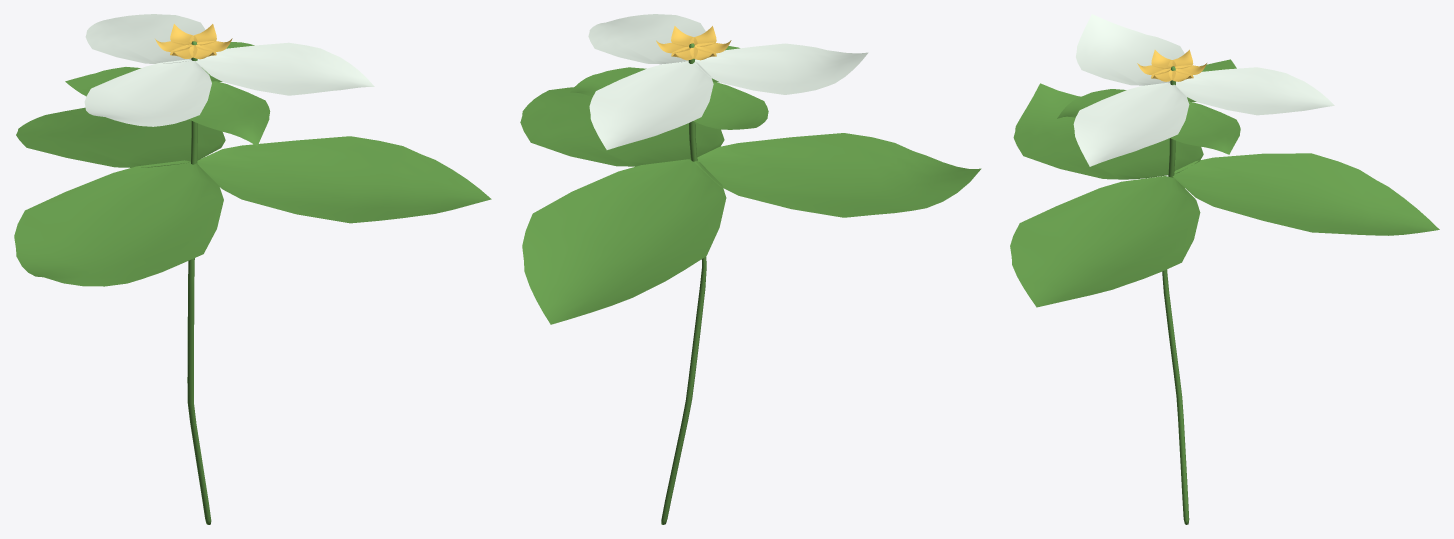
Rendered from trillium_variant2.fbx.
3 renders of one model, left to right at view 1: azimuth 30°, elevation 25°; view 2: azimuth 150°, elevation 25°; view 3: azimuth 270°, elevation 25°, orthographic. The views are drawn at different scales.
Parts seen in each view (by area): view 1: Plane.009, Plane.010, Plane.001, Plane.013, Plane.012, Plane.011, Plane.020, Stem, Plane.022; view 2: Plane.001, Plane.009, Plane.011, Plane.010, Plane.012, Plane.013, Plane.022, Stem, Plane.021; view 3: Plane.010, Plane.001, Plane.009, Plane.013, Plane.011, Plane.012, Plane.021, Stem, Plane.020.
Boxes of the visible parts, box(x1,y1,x2,y2) form: Plane.009: box(14, 160, 223, 286); Plane.010: box(197, 136, 491, 223); Plane.001: box(16, 107, 225, 167); Plane.013: box(195, 42, 374, 95); Plane.012: box(84, 59, 211, 126); Plane.011: box(85, 14, 205, 63); Plane.020: box(189, 80, 270, 146); Stem: box(187, 41, 211, 524); Plane.022: box(65, 67, 140, 96); Plane.001: box(522, 159, 726, 324); Plane.009: box(694, 133, 981, 217); Plane.011: box(589, 61, 713, 149); Plane.010: box(520, 87, 724, 166); Plane.012: box(694, 43, 868, 94); Plane.013: box(588, 14, 705, 64); Plane.022: box(693, 82, 768, 129); Stem: box(661, 43, 706, 524); Plane.021: box(570, 67, 646, 96); Plane.010: box(1010, 176, 1200, 307); Plane.001: box(1172, 153, 1439, 235); Plane.009: box(1013, 83, 1203, 179); Plane.013: box(1073, 82, 1189, 166); Plane.011: box(1175, 67, 1334, 115); Plane.012: box(1076, 14, 1184, 85); Plane.021: box(1170, 101, 1240, 154); Stem: box(1162, 66, 1189, 524); Plane.020: box(1057, 89, 1126, 118).
Size of the model in its own units: 38.67 by 41.28 by 35.57.
